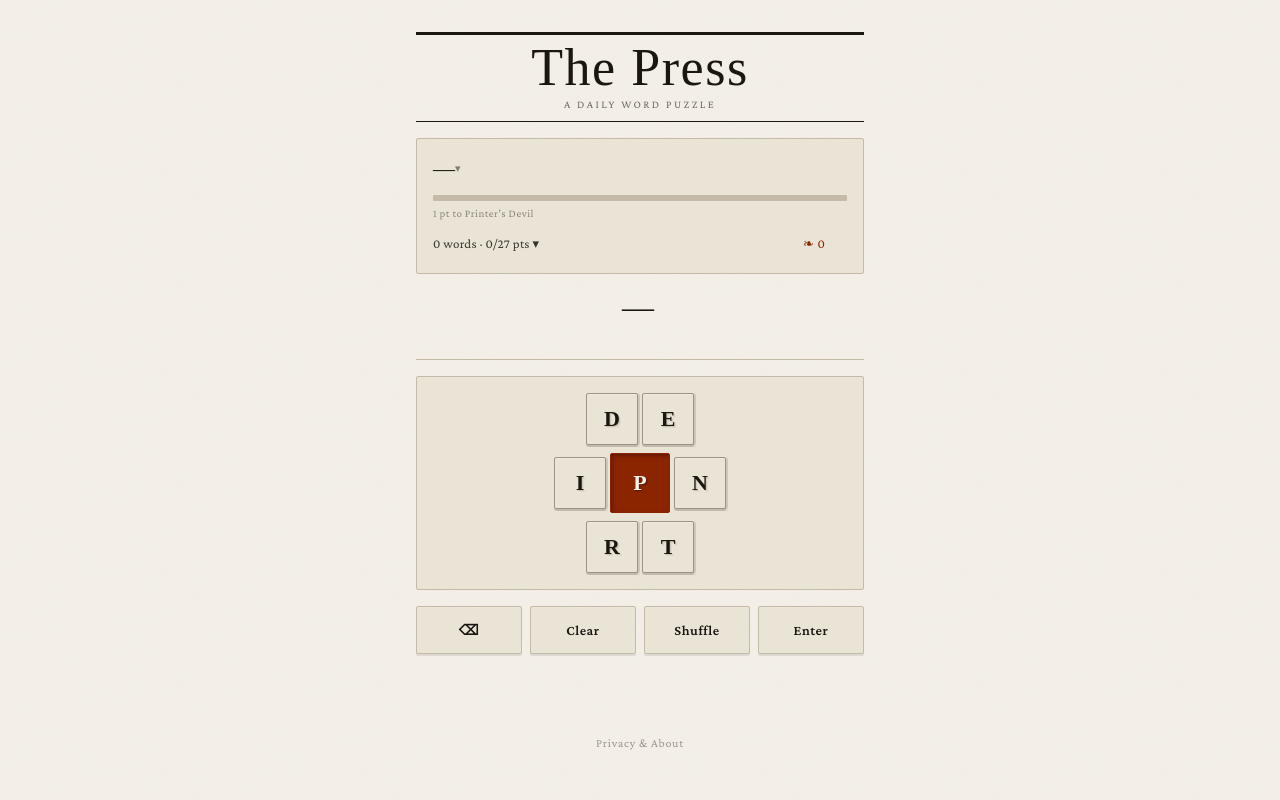
Scenario: GameLayout modal interactions › opens stats modal when streak button is clicked
This screenshot has width=1280, height=800.
What coordinates should you click on to do the following:
click the button named "Streak"
I would click on:
 (825, 243)
Its box is [803,221,847,265].
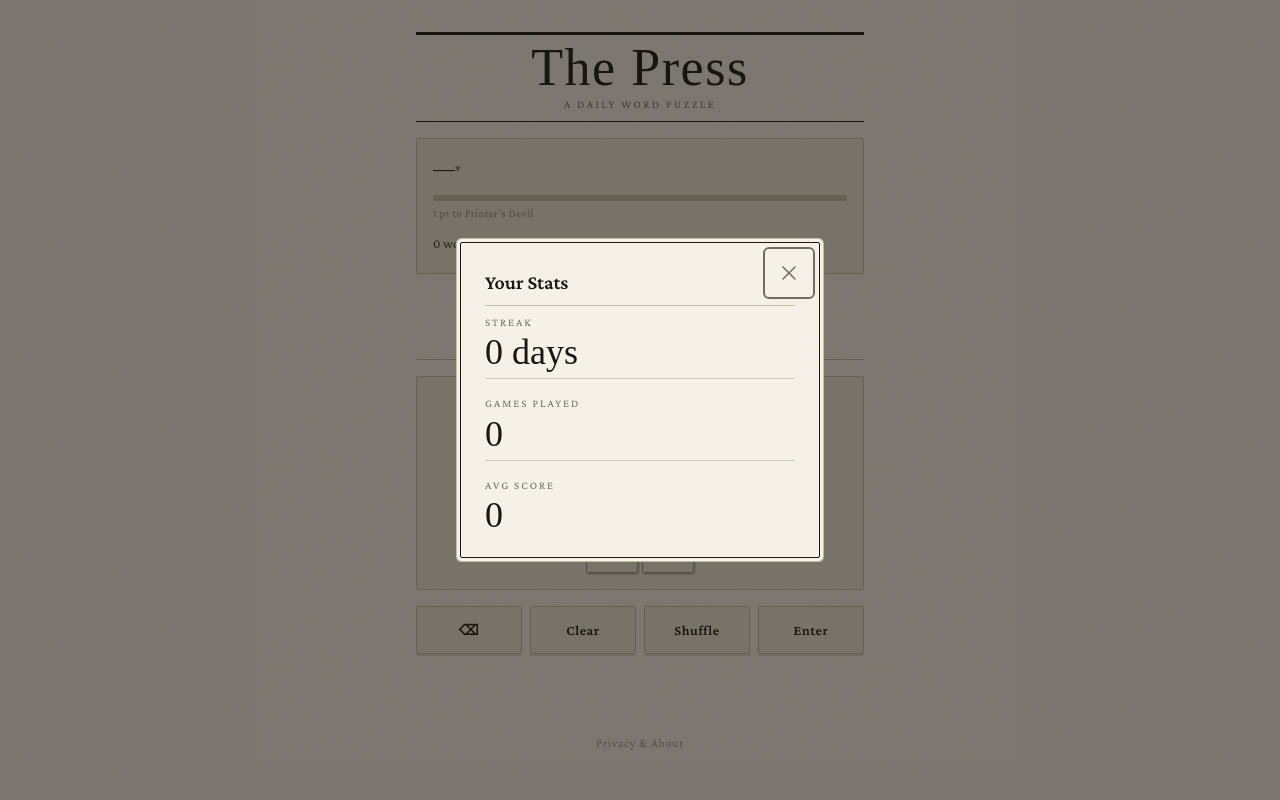
Now the dialog is shown, box [460,242,820,558]
